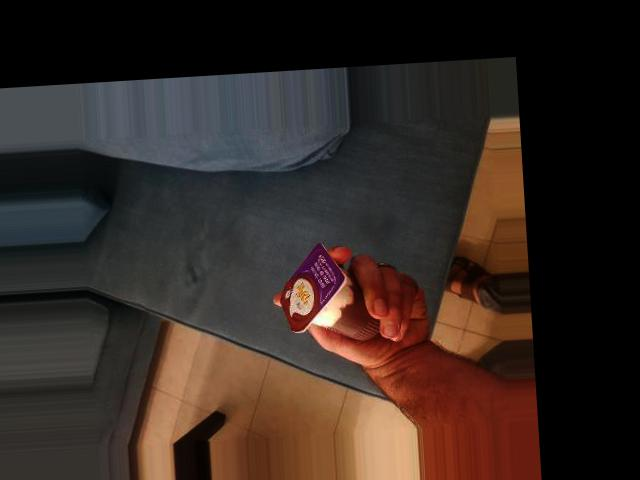milky: (207, 138, 309, 253)
